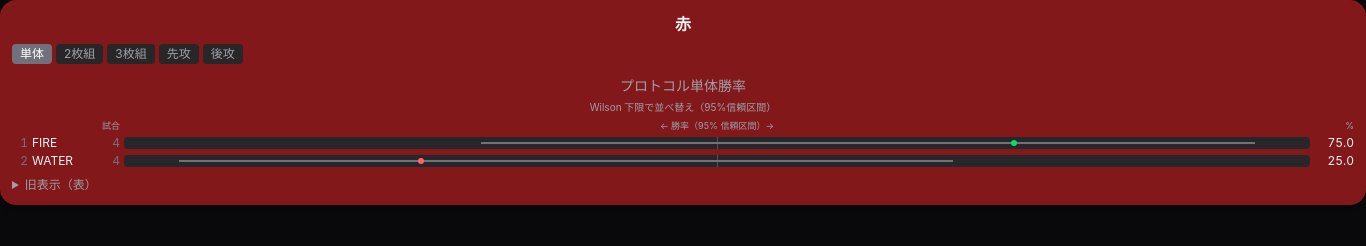
Test: Stat › タブを切り替えると pair セクションへ（スライダーで試合数フィルタ）
Click the tab "2枚組".
click(80, 54)  # box [56,44,103,64]
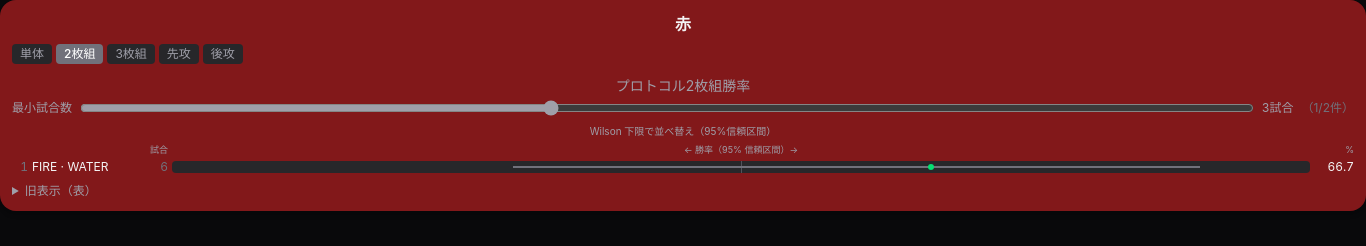
Check: the text "FIRE · METAL" is not shown
Check: the heading "プロトコル2枚組勝率" is shown, box [616,77,750,94]
Check: the text "FIRE · WATER" is shown, box [32,159,108,174]
# スライダーを 1 に下げると FIRE · METAL も forest に現れる
Set the slider to "1" at x=88, y=108, box [80,100,1254,116]
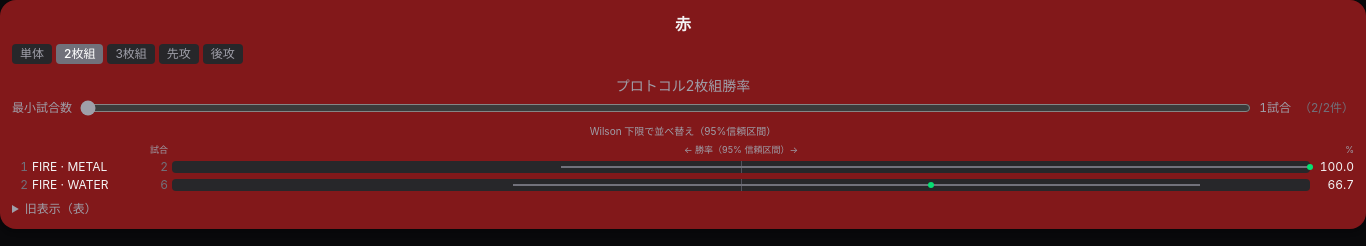
Check: the text "FIRE · METAL" is shown, box [32,159,107,174]
